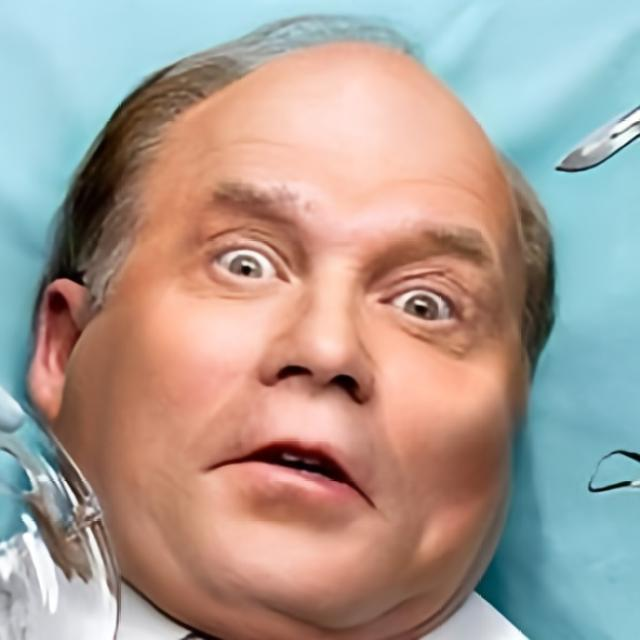fear: (58, 38, 530, 640)
